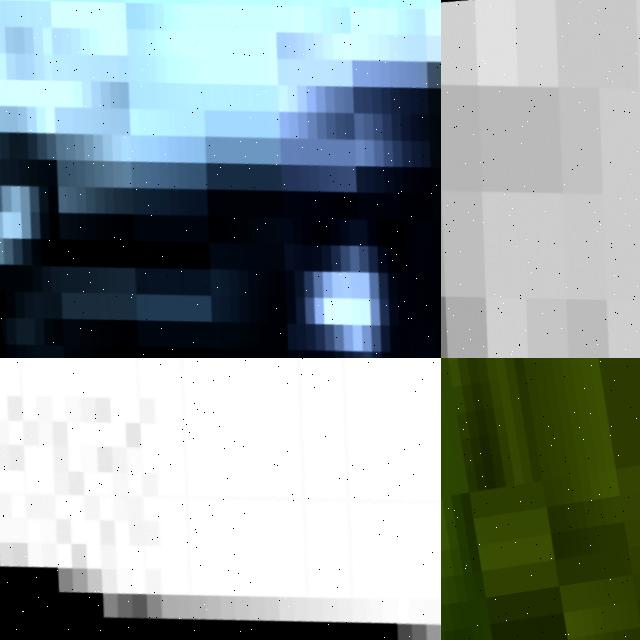0: (0, 0, 441, 358)
drone: (0, 358, 441, 640), (441, 0, 640, 358)
